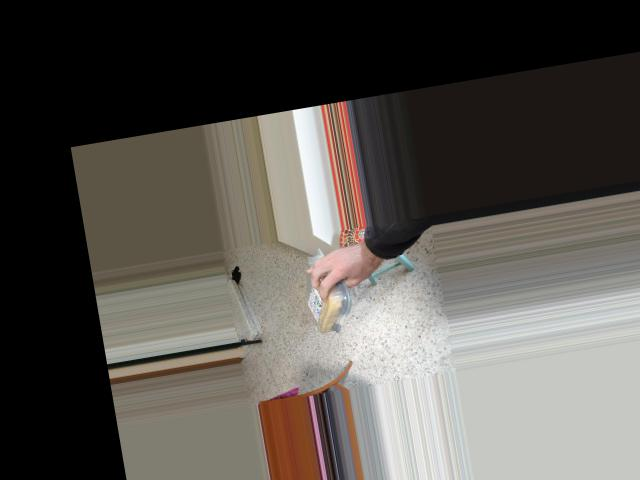cheese: (301, 257, 349, 336)
